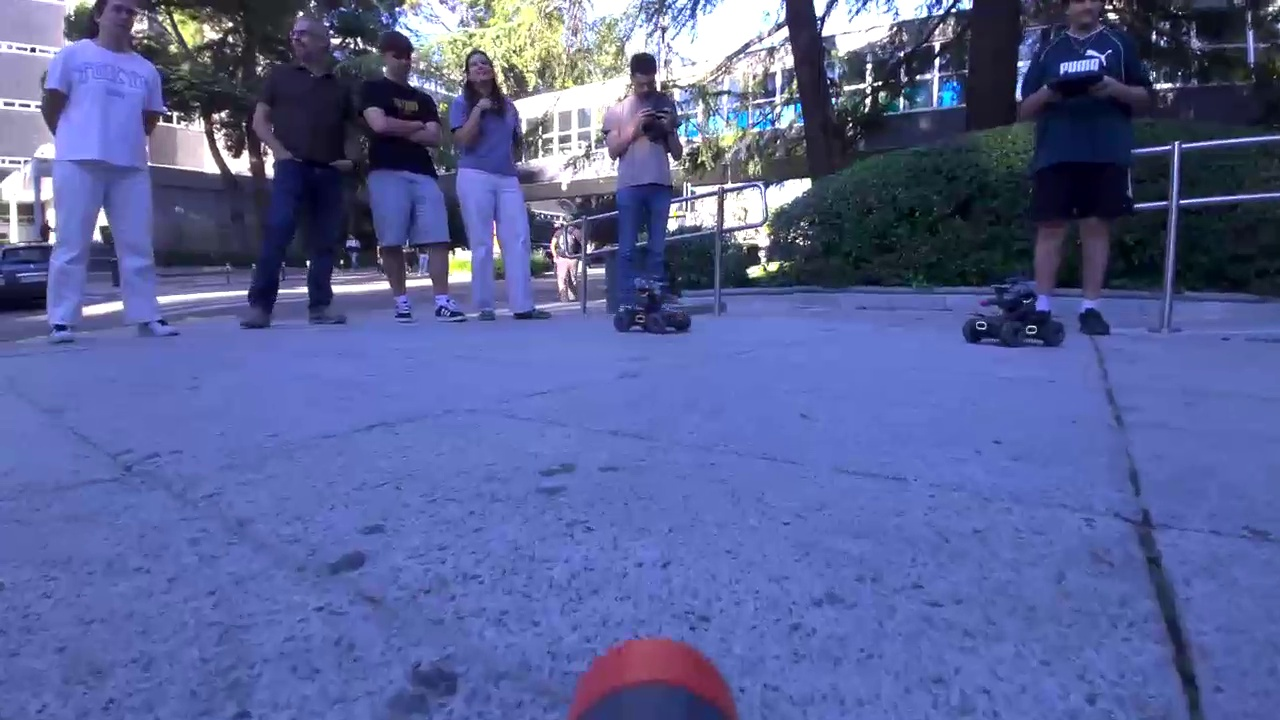robot: (959, 282, 1074, 357), (619, 269, 694, 342)
